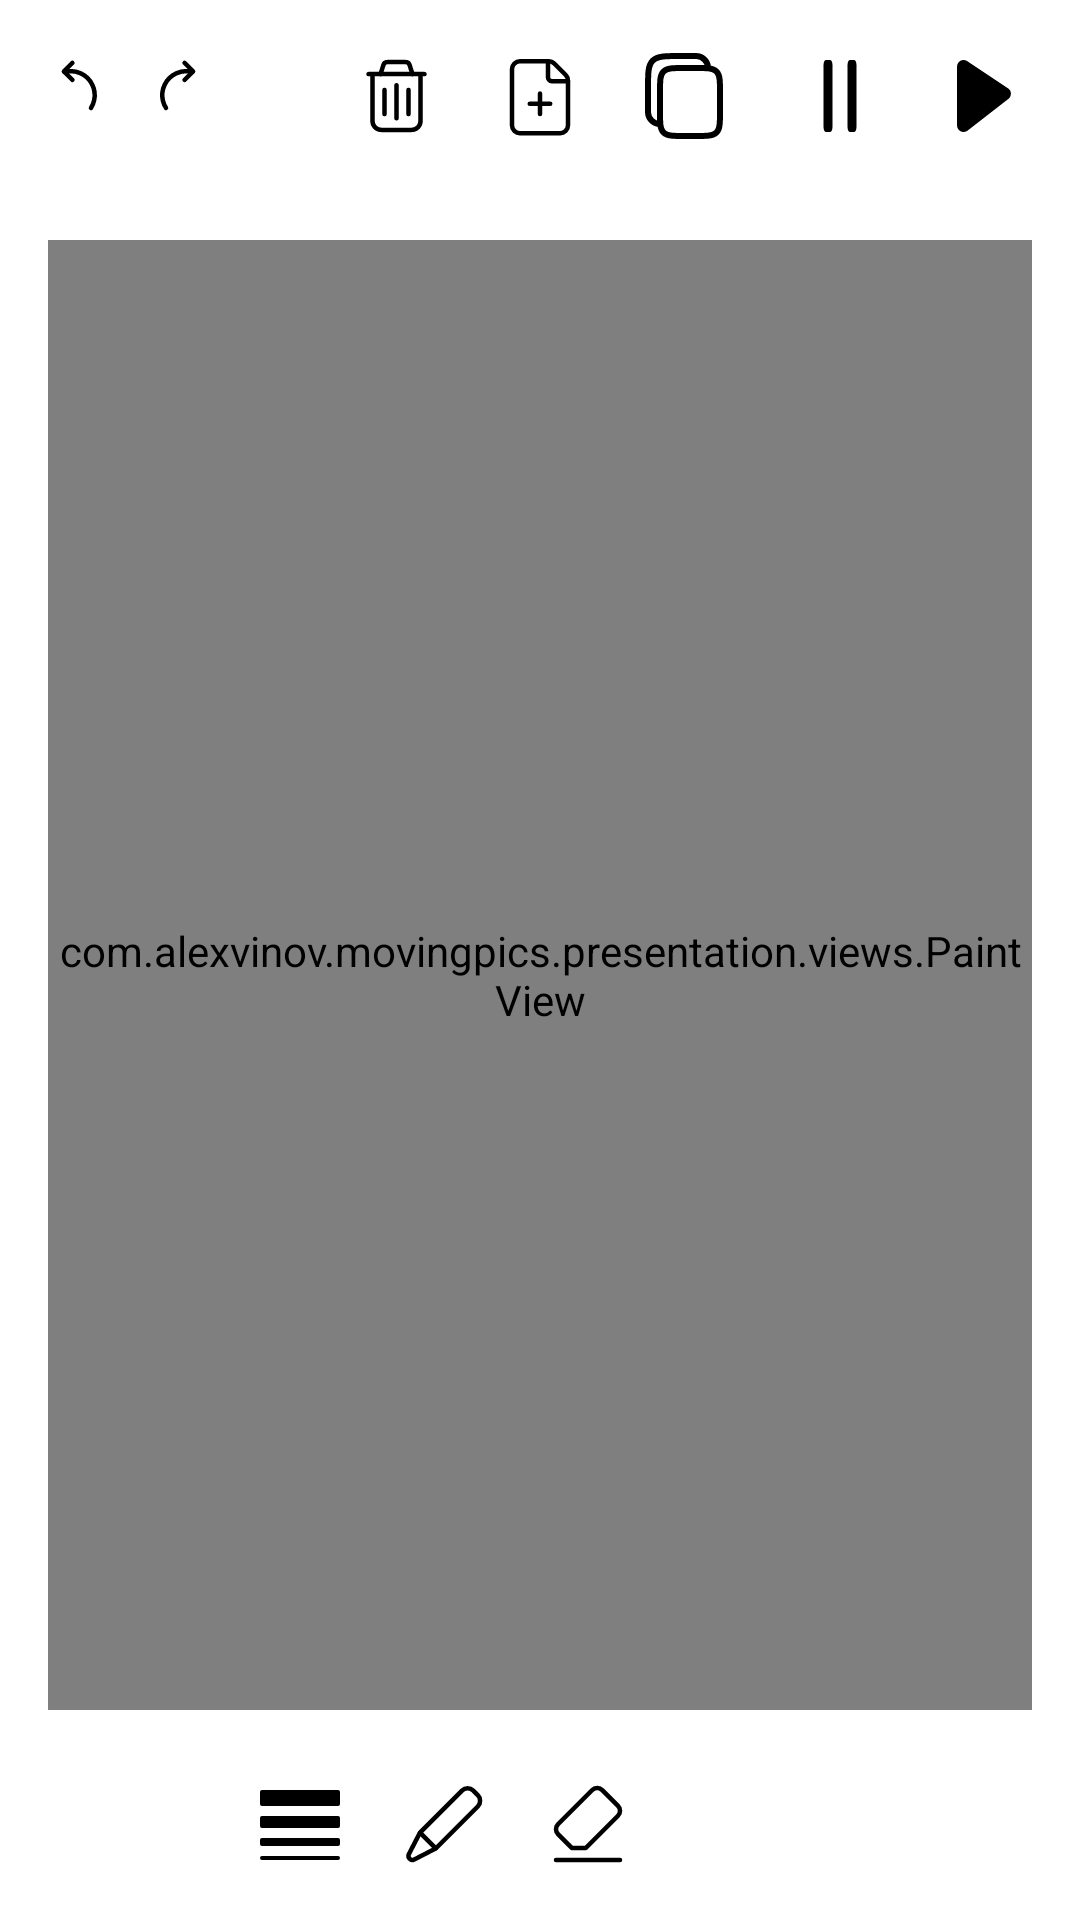

Named icons in this screenshot (1080w x 1920h) and their centers, point (x, y):
add sheet: point (540, 97)
arrow redo: point (178, 85)
arrow undo: point (79, 85)
bin: point (396, 96)
brush size: point (300, 1825)
erase: point (588, 1824)
pen: point (444, 1824)
play: point (984, 96)
